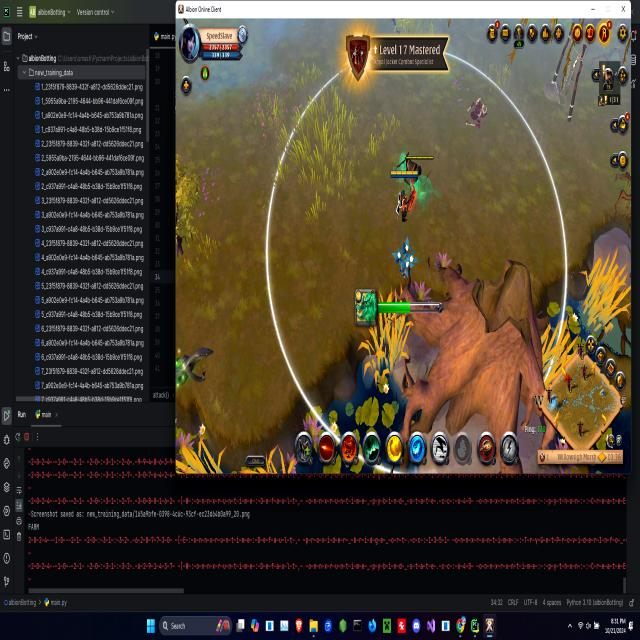hide: (392, 240, 418, 286)
ore: (176, 341, 218, 393)
red: (389, 168, 420, 226)
